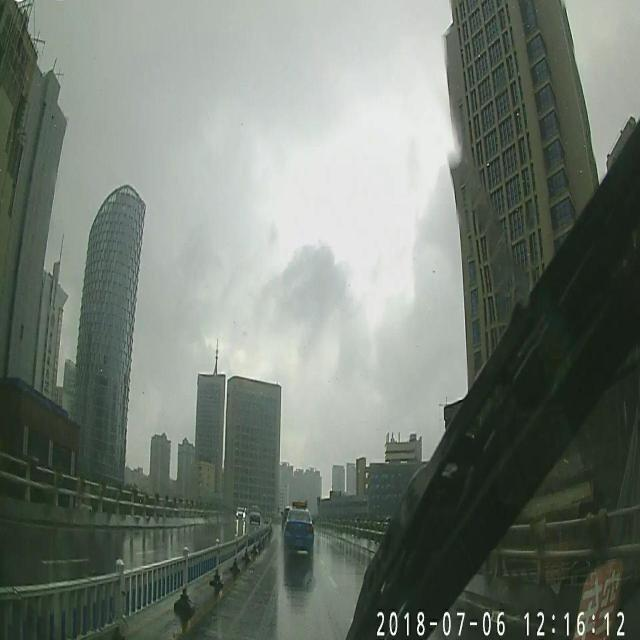car: (284, 501, 314, 556), (278, 504, 293, 528), (249, 503, 261, 523), (236, 506, 244, 519)
